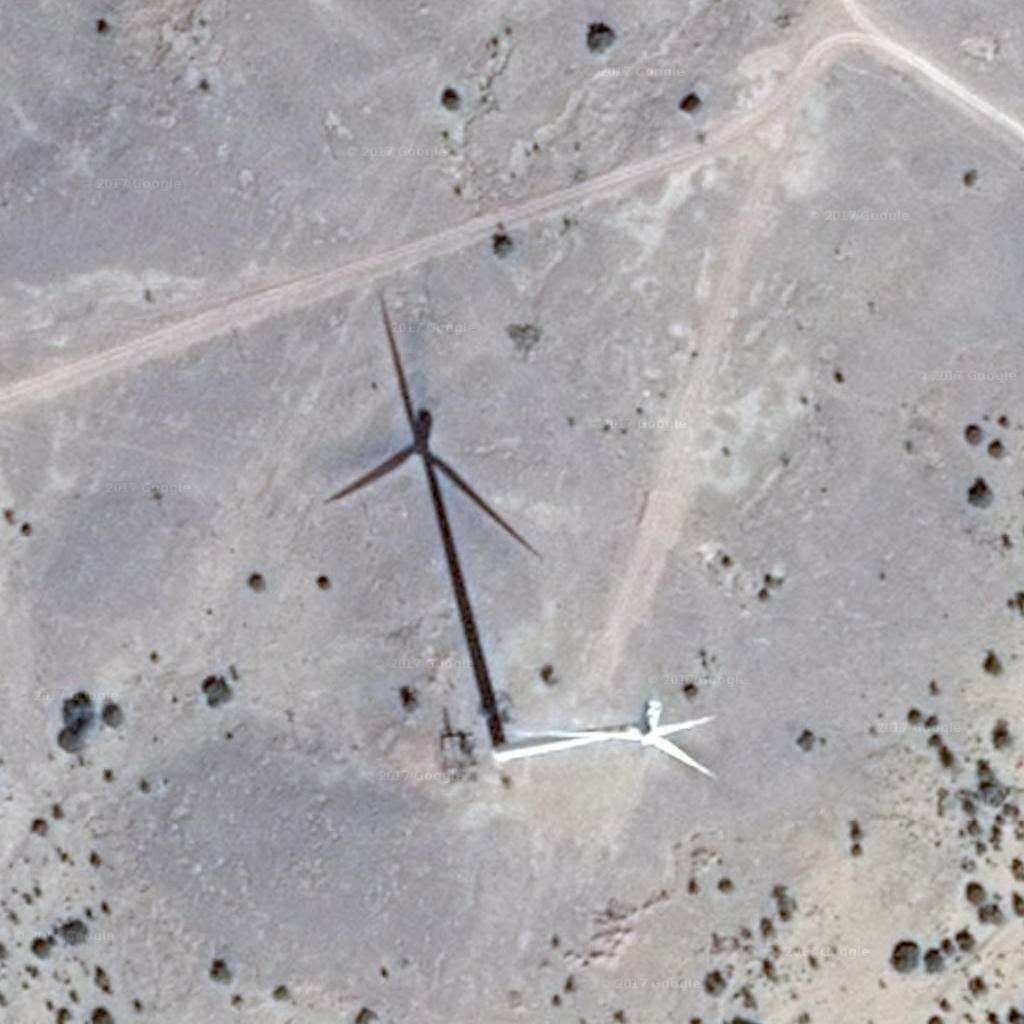Windmill: (333, 283, 516, 736)
